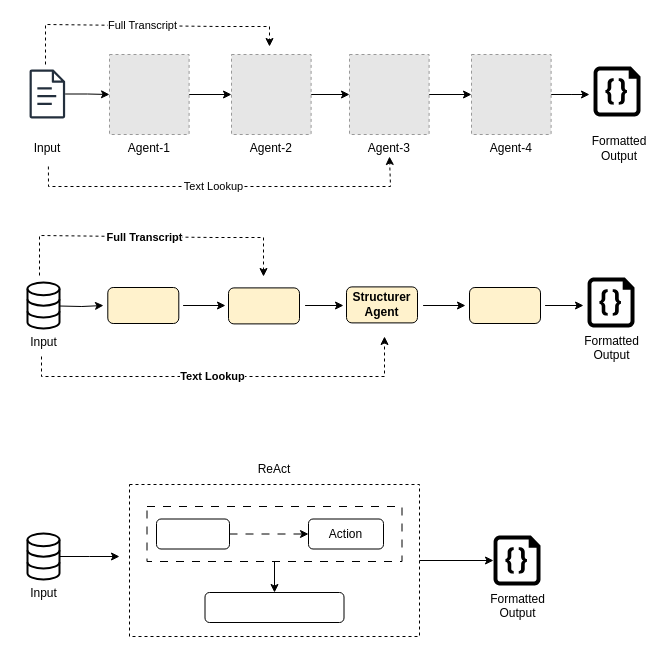
Image size: 668x654. Some labels were removed from this diagram. Grey dashed boxes stand in for pictures. The box of each missing label's shape, as (x1, y1, x2, y2) in pixels:
Identifier Agent: (107, 286, 179, 324)
Mapper Agent: (228, 287, 300, 324)
Observation/Check: (204, 592, 344, 622)
Thought: (156, 518, 230, 549)
Validator Agent: (468, 286, 540, 324)
